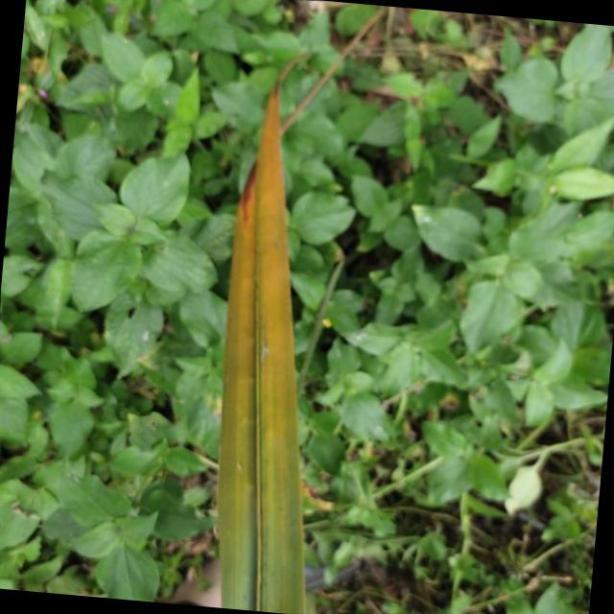Megnesium: (217, 55, 311, 614)
